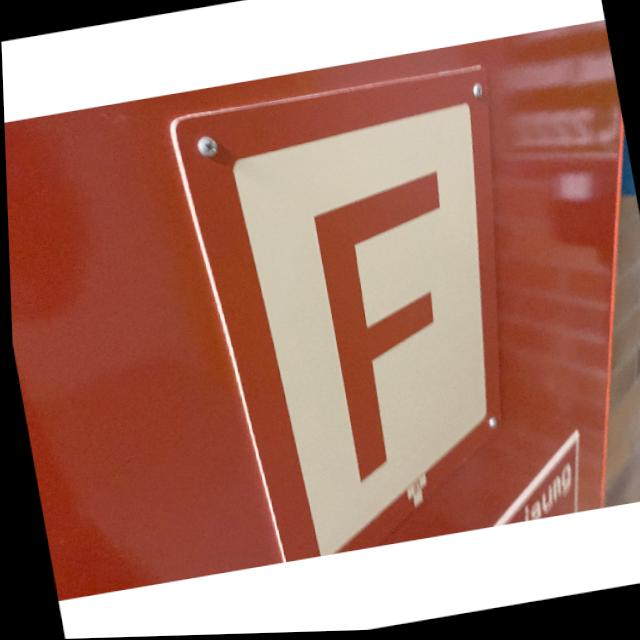fire extinguisher: (167, 65, 559, 561)
